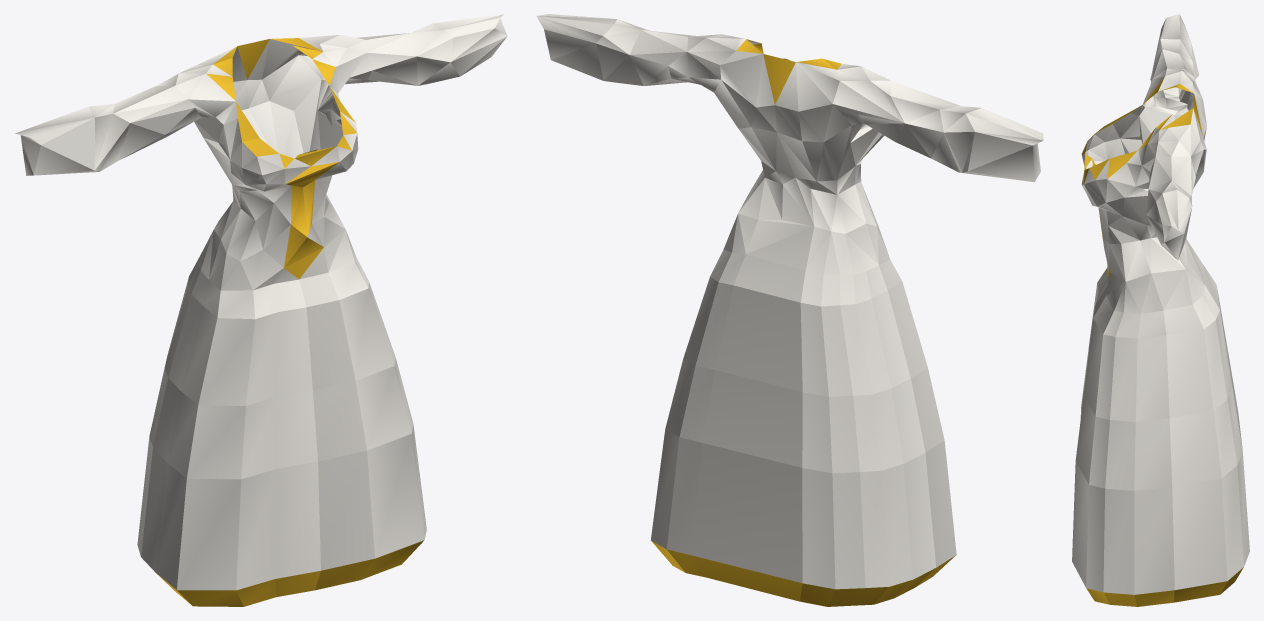
File: chest-healer.glb
3 views of the same model, side by side, from view 1: azimuth 30°, elevation 25°; view 2: azimuth 150°, elevation 25°; view 3: azimuth 270°, elevation 25° (orthographic). The views are drawn at different scales.
Visible parts, largest first — view 1: chest-healer; view 2: chest-healer; view 3: chest-healer.
Boxes of the visible parts, box(x1,y1,x2,y2) form: chest-healer: box(15, 14, 507, 606); chest-healer: box(536, 14, 1043, 606); chest-healer: box(1072, 14, 1249, 606).
Size of the model in its own units: 1.34 by 1.32 by 0.4628.
1 material, 1 textured.
